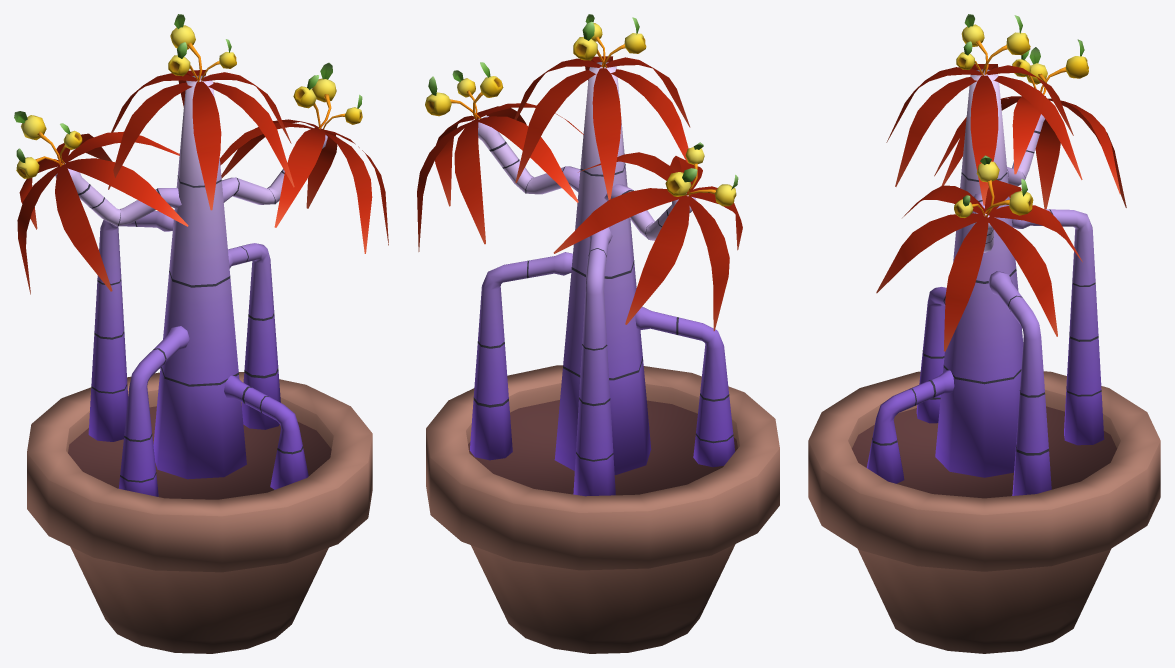
File: wp_wPot_22.fbx
3 renders of one model, left to right at view 1: azimuth 30°, elevation 25°; view 2: azimuth 150°, elevation 25°; view 3: azimuth 270°, elevation 25°, orthographic. The views are drawn at different scales.
Visible parts, largest first — view 1: w_pl22; view 2: w_pl22; view 3: w_pl22.
Part boxes in pixels (x1,y1,x2,y2): w_pl22: (14, 14, 388, 653); w_pl22: (417, 14, 779, 653); w_pl22: (808, 14, 1160, 653).
Bounding box in the file's own units: 114 × 196 × 105.
